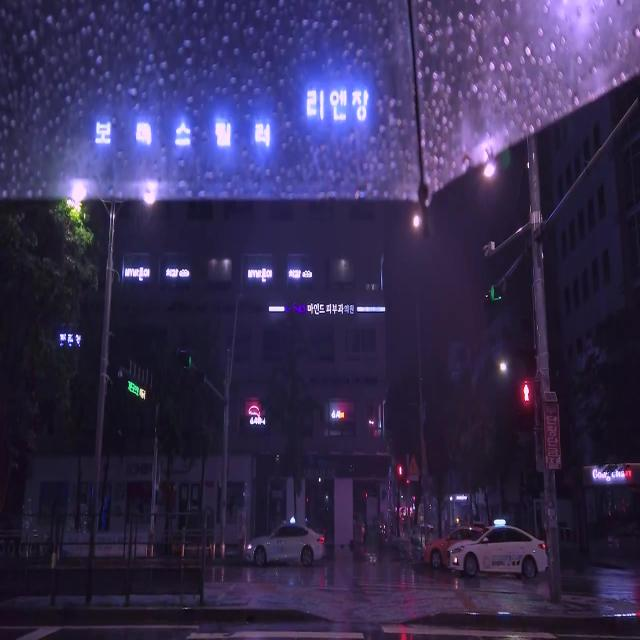Car: (447, 523, 546, 577), (244, 522, 324, 566)
